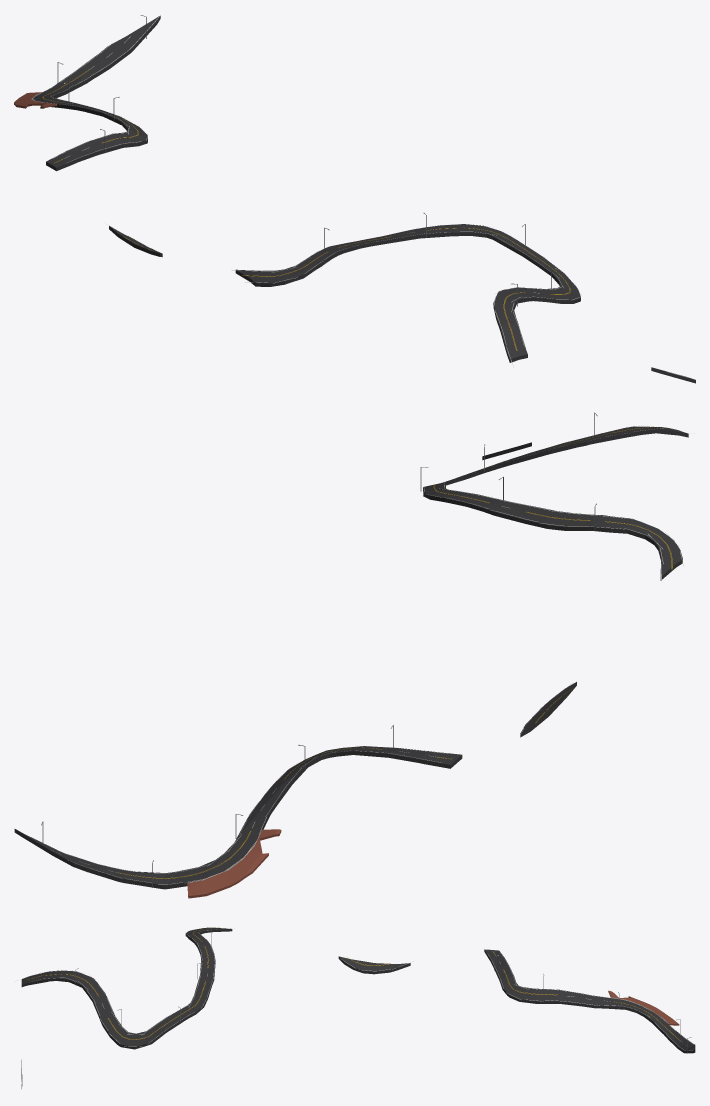
The picture shows the model from 3 angles, top to bottom: view 1: azimuth 30°, elevation 25°; view 2: azimuth 150°, elevation 25°; view 3: azimuth 270°, elevation 25°; orthographic projection. The views are drawn at different scales.
Bounding box in the file's own units: 111 × 40 × 295.
